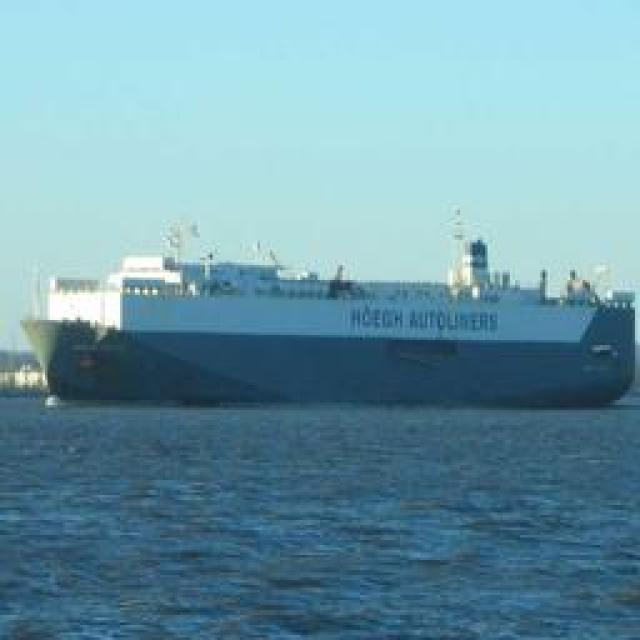ship2: (31, 209, 637, 410)
